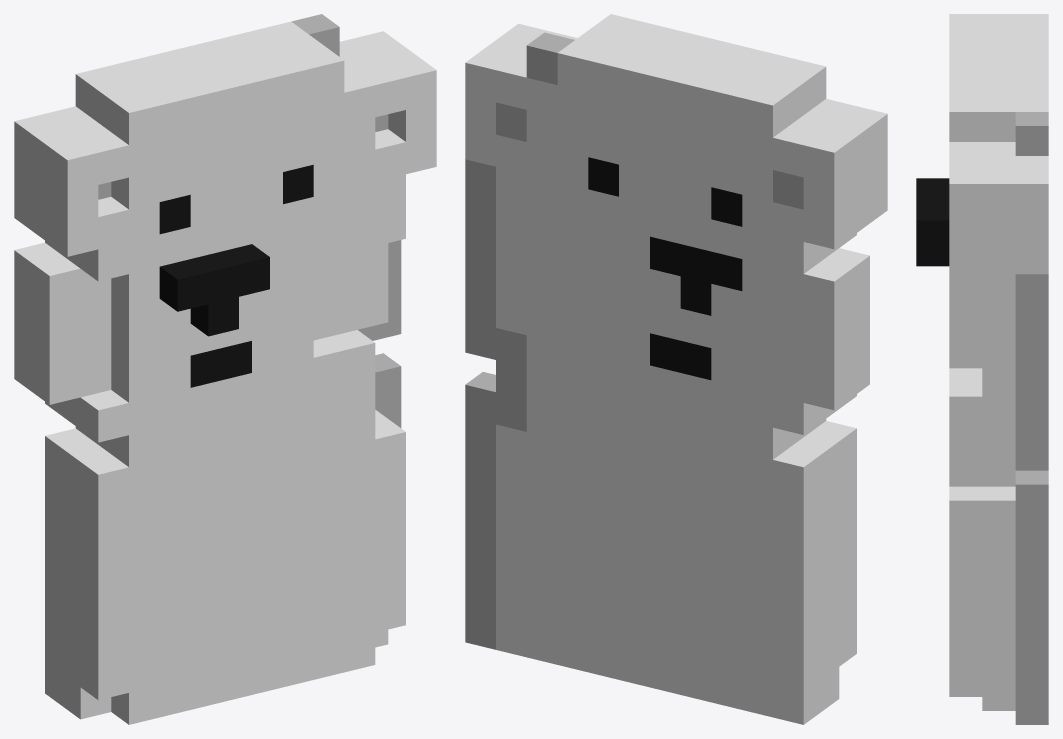
The model's file is bear-0.obj.
3 renders of one model, left to right at view 1: azimuth 30°, elevation 25°; view 2: azimuth 150°, elevation 25°; view 3: azimuth 270°, elevation 25°, orthographic. The views are drawn at different scales.
Bounding box in the file's own units: 1.2 × 1.9 × 0.4.
1 material, 1 textured.
